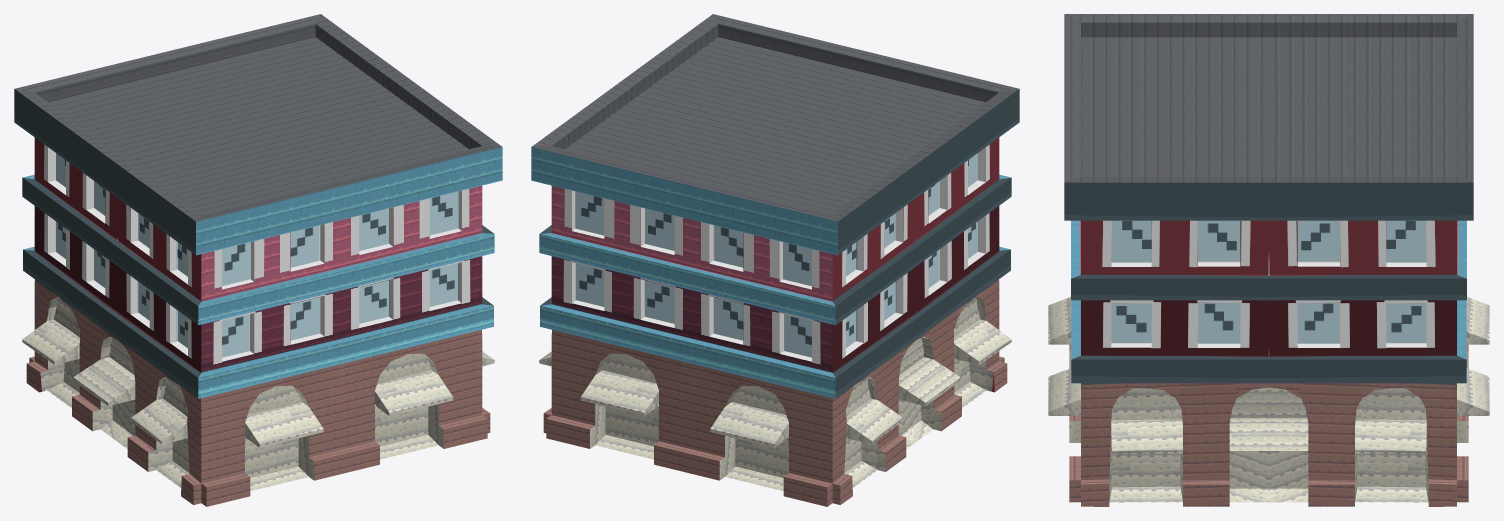
File: store1.fbx
3 views of the same model, side by side, from view 1: azimuth 30°, elevation 25°; view 2: azimuth 150°, elevation 25°; view 3: azimuth 270°, elevation 25° (orthographic). The views are drawn at different scales.
Parts seen in each view (by area): view 1: pCube7; view 2: pCube7; view 3: pCube7.
Part boxes in pixels (x1,y1,x2,y2): pCube7: [14, 14, 502, 506]; pCube7: [531, 14, 1019, 506]; pCube7: [1048, 14, 1489, 506].
Size of the model in its own units: 9.38 by 7.76 by 9.49.
1 material, 1 textured.
